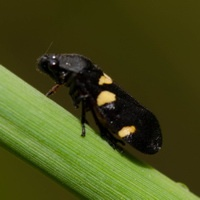insect: (38, 54, 161, 153)
